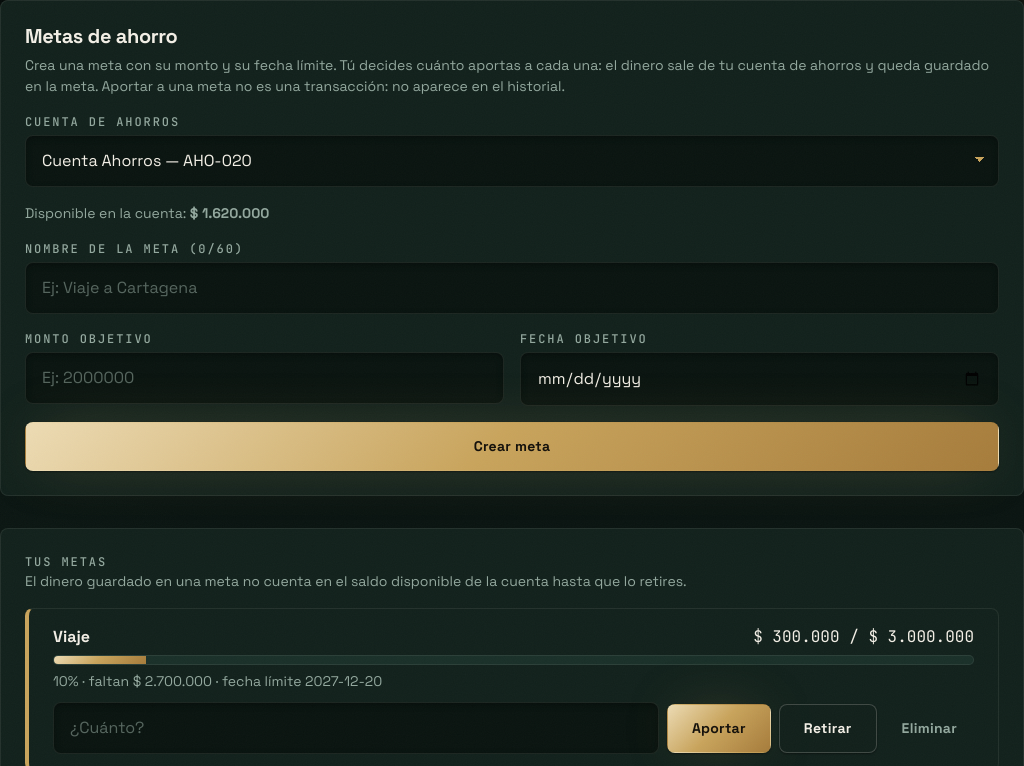
Test: Metas de ahorro (aportar no es una transacción) › retirar de la meta devuelve la plata a la cuenta
This screenshot has width=1024, height=766.
Expected: the text "Viaje" is shown, [53,625,90,649]
In the number field named "Monto para Viaje": (356, 728) [53,702,659,754], type "50000"
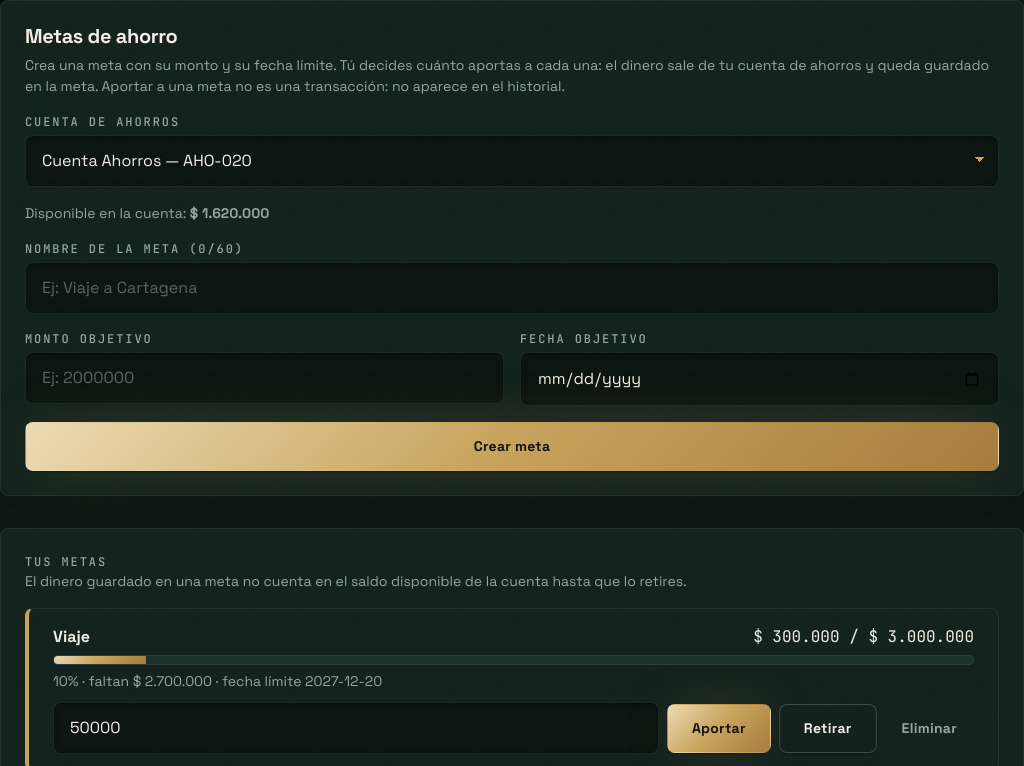
Click the button "Retirar": (828, 728) [779,704,877,753]
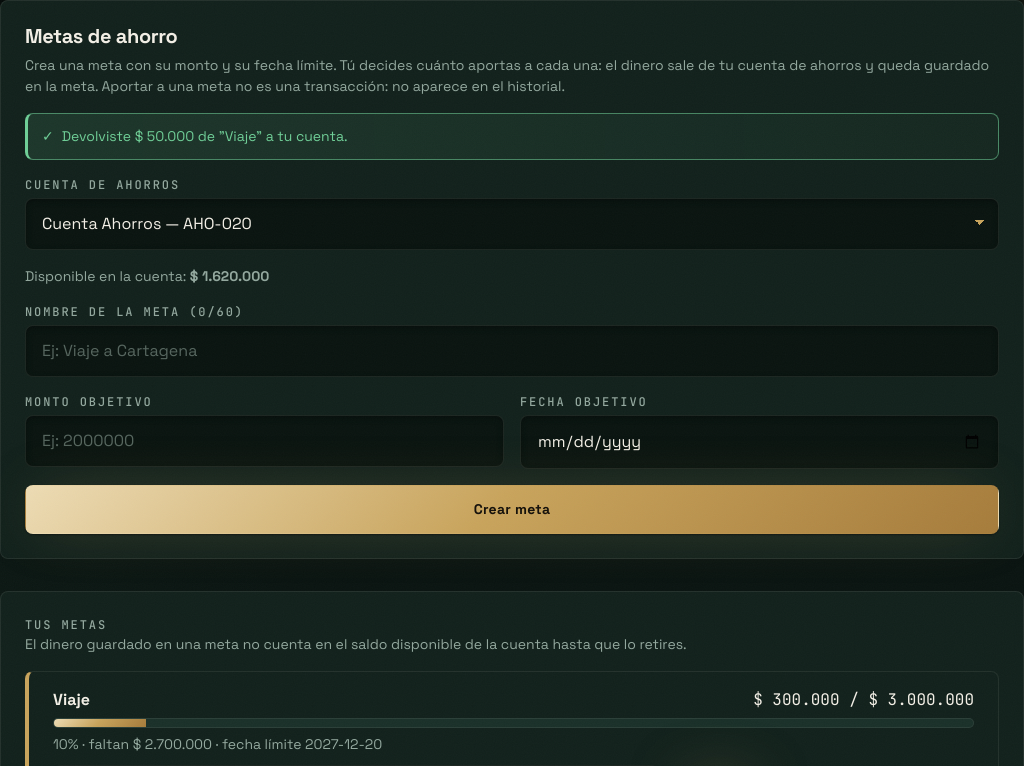
Result: the message reads "✓ Devolviste $ 50.000 de \"Viaje\" a tu cuenta." at [62,127,348,145]
